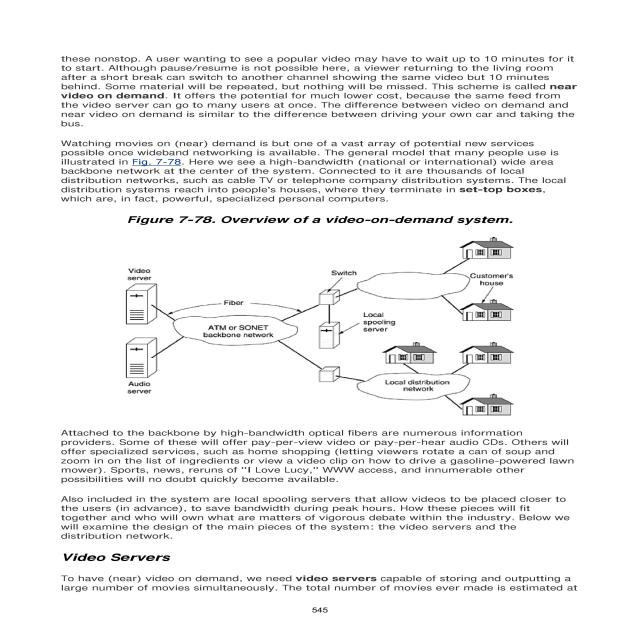diagram: (83, 208, 560, 422)
